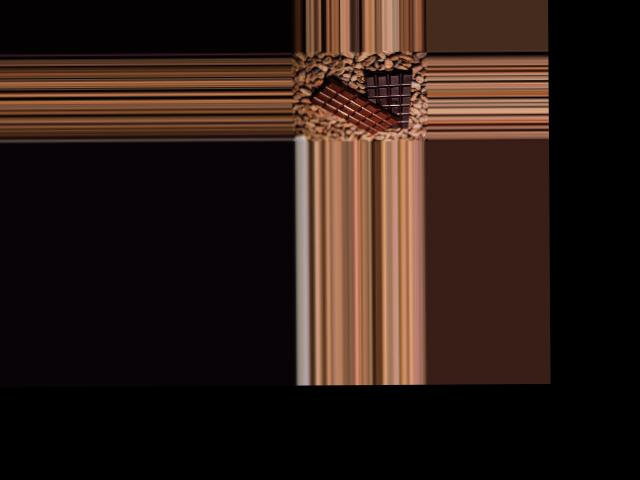chocolate: (364, 66, 418, 132)
